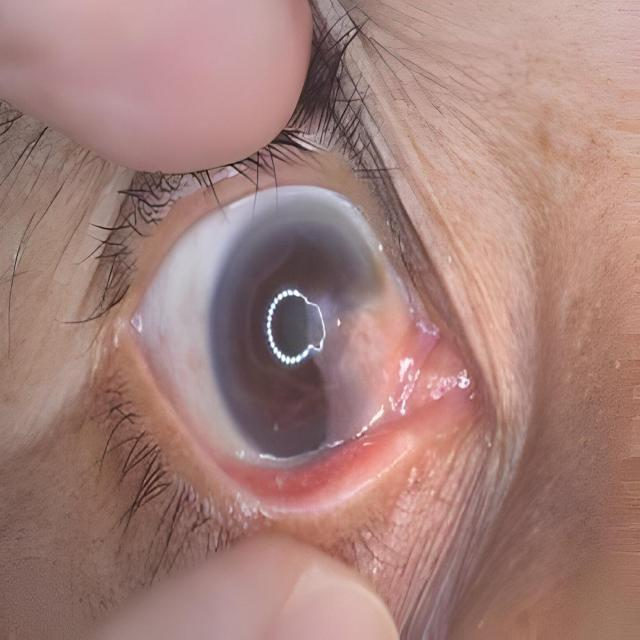Pterygium: (292, 265, 442, 444)
